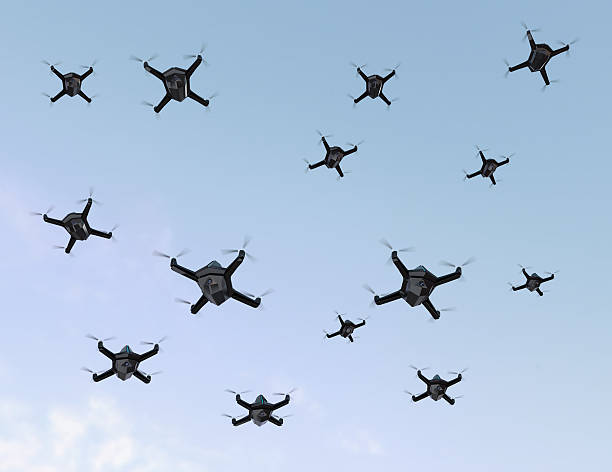Drone: (151, 230, 278, 317), (365, 233, 480, 327), (126, 40, 226, 113), (31, 186, 120, 257), (501, 16, 581, 93), (82, 328, 168, 388), (223, 381, 298, 434), (300, 124, 368, 182), (406, 360, 469, 410), (40, 53, 96, 107), (346, 62, 402, 110), (461, 145, 518, 188), (506, 257, 557, 301), (321, 304, 369, 345)
